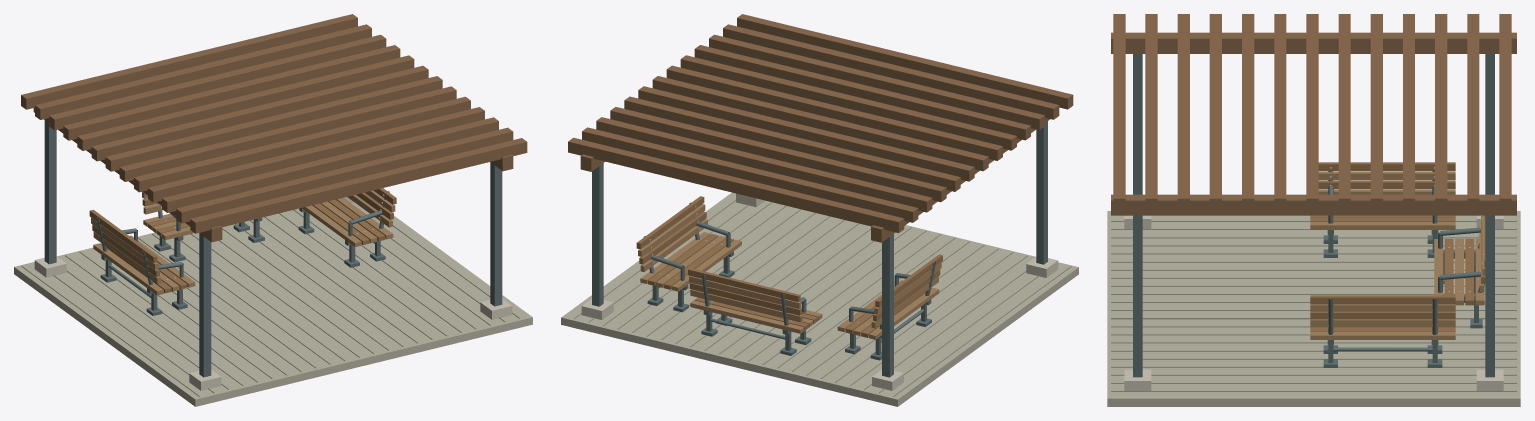
Rendered from pergola.glb.
3 renders of one model, left to right at view 1: azimuth 30°, elevation 25°; view 2: azimuth 150°, elevation 25°; view 3: azimuth 270°, elevation 25°, orthographic. The views are drawn at different scales.
Visible parts, largest first — view 1: korean-facade-parts-8b6b4c, korean-facade-parts-b9b6a4, korean-facade-parts-627475 (×4), korean-facade-parts-9b9c8d, korean-facade-parts-a68660 (×3), korean-facade-parts-987650 (×2), korean-facade-parts-cec9b9; view 2: korean-facade-parts-8b6b4c, korean-facade-parts-b9b6a4, korean-facade-parts-627475 (×4), korean-facade-parts-a68660 (×3), korean-facade-parts-987650 (×3), korean-facade-parts-9b9c8d, korean-facade-parts-cec9b9; view 3: korean-facade-parts-b9b6a4, korean-facade-parts-8b6b4c, korean-facade-parts-9b9c8d, korean-facade-parts-627475 (×4), korean-facade-parts-a68660 (×3), korean-facade-parts-987650 (×3), korean-facade-parts-cec9b9.
Part boxes in pixels (x1=…): korean-facade-parts-8b6b4c: x1=21, y1=14, x2=527, y2=242; korean-facade-parts-b9b6a4: x1=14, y1=202, x2=532, y2=406; korean-facade-parts-627475 (×4): x1=44, y1=120, x2=502, y2=377; korean-facade-parts-9b9c8d: x1=21, y1=209, x2=519, y2=396; korean-facade-parts-a68660 (×3): x1=91, y1=190, x2=395, y2=295; korean-facade-parts-987650 (×2): x1=89, y1=188, x2=396, y2=293; korean-facade-parts-cec9b9: x1=34, y1=197, x2=512, y2=390; korean-facade-parts-8b6b4c: x1=568, y1=14, x2=1073, y2=242; korean-facade-parts-b9b6a4: x1=561, y1=192, x2=1078, y2=406; korean-facade-parts-627475 (×4): x1=592, y1=121, x2=1047, y2=377; korean-facade-parts-a68660 (×3): x1=638, y1=204, x2=941, y2=339; korean-facade-parts-987650 (×3): x1=636, y1=196, x2=942, y2=337; korean-facade-parts-9b9c8d: x1=574, y1=200, x2=1071, y2=396; korean-facade-parts-cec9b9: x1=581, y1=193, x2=1058, y2=390; korean-facade-parts-b9b6a4: x1=1107, y1=211, x2=1520, y2=406; korean-facade-parts-8b6b4c: x1=1111, y1=14, x2=1516, y2=215; korean-facade-parts-9b9c8d: x1=1111, y1=221, x2=1516, y2=391; korean-facade-parts-627475 (×4): x1=1133, y1=54, x2=1494, y2=377; korean-facade-parts-a68660 (×3): x1=1310, y1=171, x2=1485, y2=339; korean-facade-parts-987650 (×3): x1=1310, y1=162, x2=1485, y2=331; korean-facade-parts-cec9b9: x1=1124, y1=215, x2=1503, y2=390.
Bounding box in the file's own units: 5.8 × 2.99 × 5.4.
